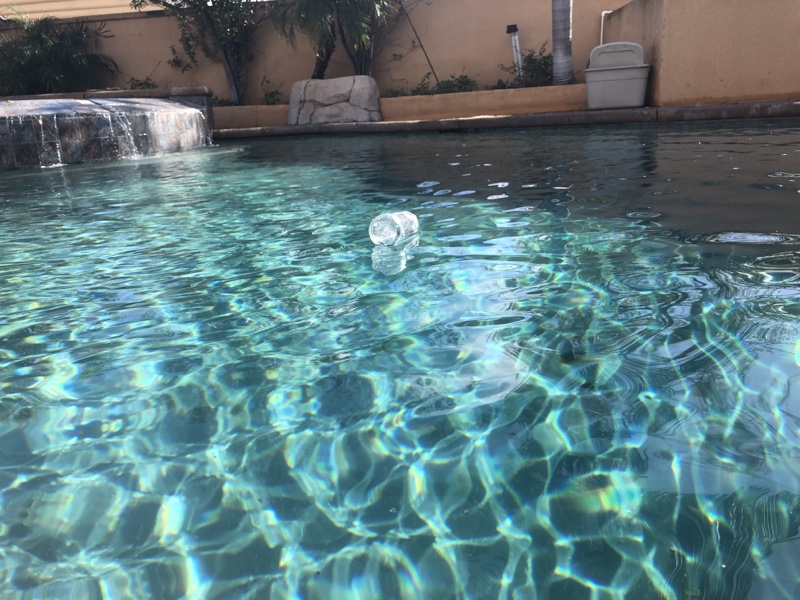Plastic Bottle: (365, 209, 422, 249)
